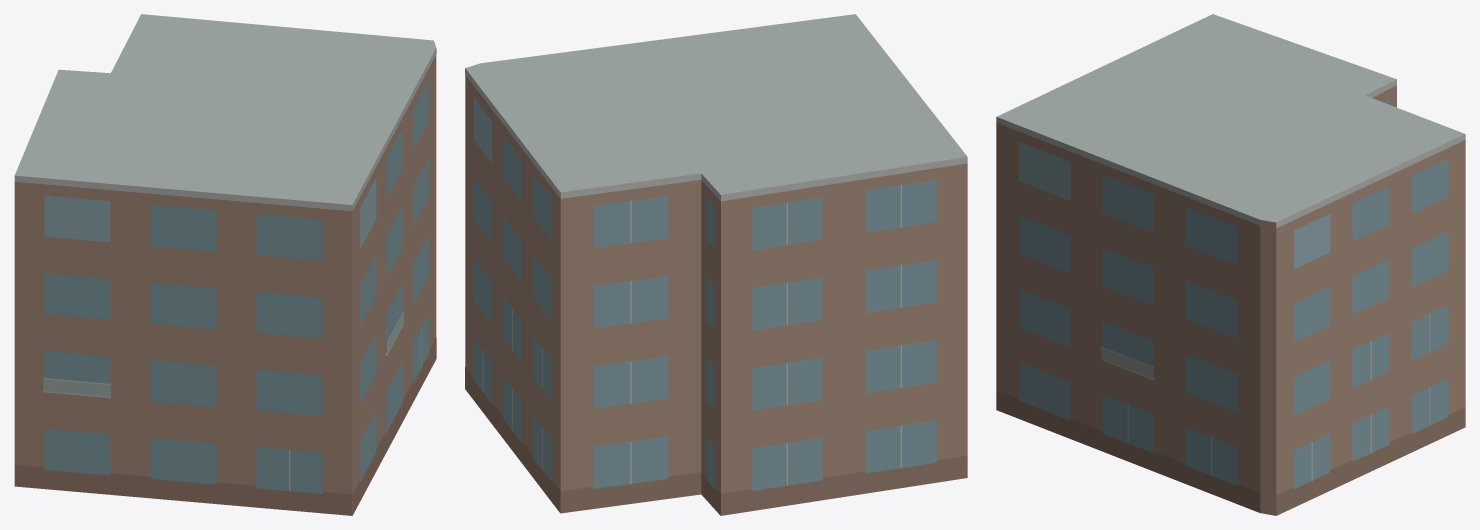
Rendered from survey-upis-32960385.glb.
3 renders of one model, left to right at view 1: azimuth 30°, elevation 25°; view 2: azimuth 150°, elevation 25°; view 3: azimuth 270°, elevation 25°, orthographic. The views are drawn at different scales.
Visible parts, largest first — view 1: survey-upis-32960385.tmp; view 2: survey-upis-32960385.tmp; view 3: survey-upis-32960385.tmp.
Part boxes in pixels (<box>): survey-upis-32960385.tmp: <box>14,14,436,515</box>; survey-upis-32960385.tmp: <box>465,14,967,515</box>; survey-upis-32960385.tmp: <box>996,14,1465,515</box>.
Bounding box in the file's own units: 18.62 × 12.2 × 17.69.
